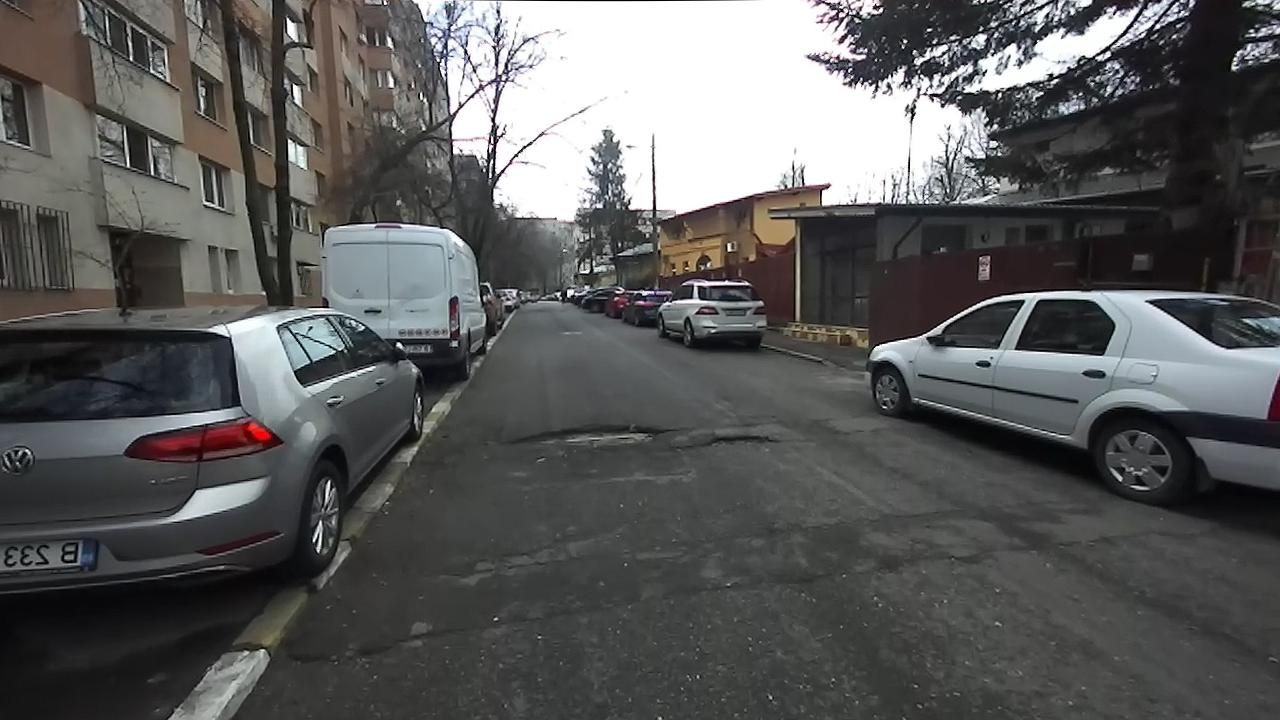pothole: (292, 621, 461, 674), (500, 417, 673, 454), (696, 431, 781, 448)
